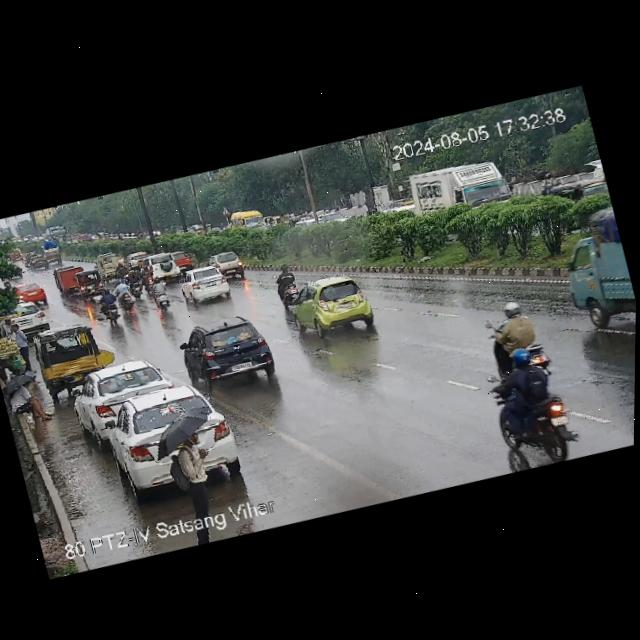car: (97, 372, 237, 497), (173, 306, 281, 398), (68, 350, 174, 434), (285, 265, 384, 345), (29, 317, 114, 395), (175, 261, 235, 309), (143, 246, 187, 282), (207, 247, 248, 283), (92, 249, 130, 281), (51, 263, 86, 297), (76, 266, 110, 300), (17, 279, 48, 307), (24, 250, 50, 273)
motorcycle: (484, 341, 582, 472), (484, 291, 554, 395), (268, 259, 302, 309), (146, 275, 177, 315), (98, 286, 124, 330), (116, 275, 136, 312), (126, 268, 145, 303)
person: (2, 373, 56, 430), (9, 317, 39, 371)
truck: (548, 199, 637, 326), (403, 150, 517, 234)
